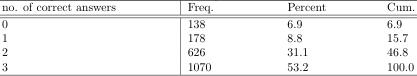table: (0, 0, 414, 72)
table column: (0, 0, 150, 72), (249, 0, 355, 72), (150, 0, 249, 72), (355, 0, 414, 72)
table column header: (0, 0, 414, 15)
table row: (0, 15, 414, 31), (0, 0, 414, 15), (0, 31, 414, 45), (0, 45, 414, 59), (0, 59, 414, 72)
